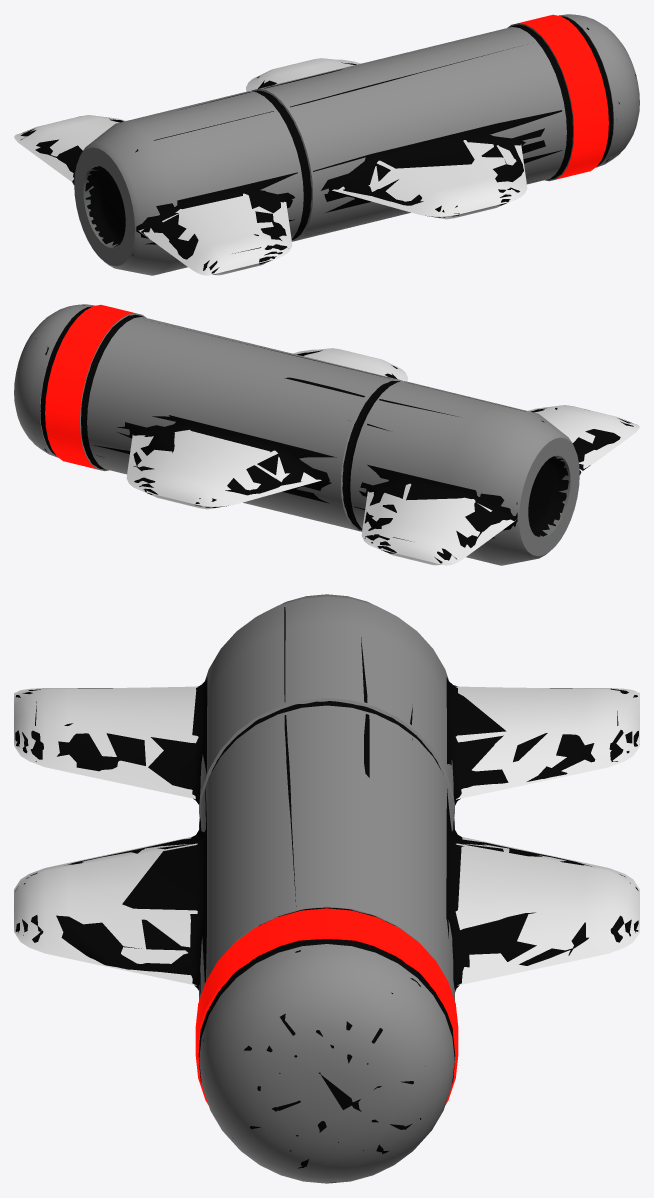
File: newsh5-286.glb
The picture shows the model from 3 angles, top to bottom: view 1: azimuth 30°, elevation 25°; view 2: azimuth 150°, elevation 25°; view 3: azimuth 270°, elevation 25°; orthographic projection. The views are drawn at different scales.
Visible parts, largest first — view 1: newsh5-286, newsh5-286_outline; view 2: newsh5-286, newsh5-286_outline; view 3: newsh5-286, newsh5-286_outline.
Part boxes in pixels (left/top/right/bottom): newsh5-286: left=14, top=14, right=639, bottom=275; newsh5-286_outline: left=20, top=16, right=636, bottom=274; newsh5-286: left=14, top=304, right=639, bottom=565; newsh5-286_outline: left=35, top=305, right=633, bottom=563; newsh5-286: left=14, top=594, right=639, bottom=1183; newsh5-286_outline: left=15, top=603, right=638, bottom=1182.
Bounding box in the file's own units: 0.9167 × 0.2483 × 0.5917.
